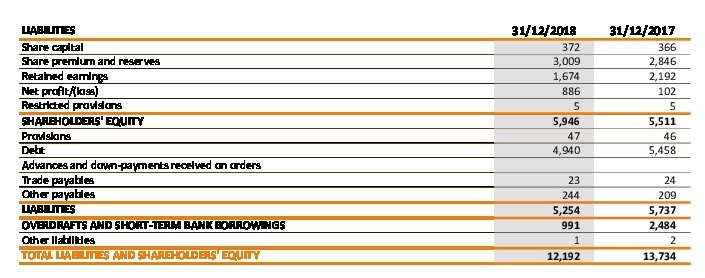table: (0, 0, 705, 278)
